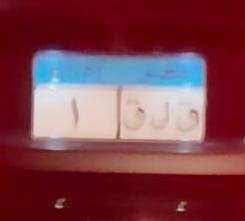1: (66, 96, 88, 127)
laam: (150, 101, 171, 135)
qaaf: (172, 99, 204, 135), (118, 98, 147, 134)
